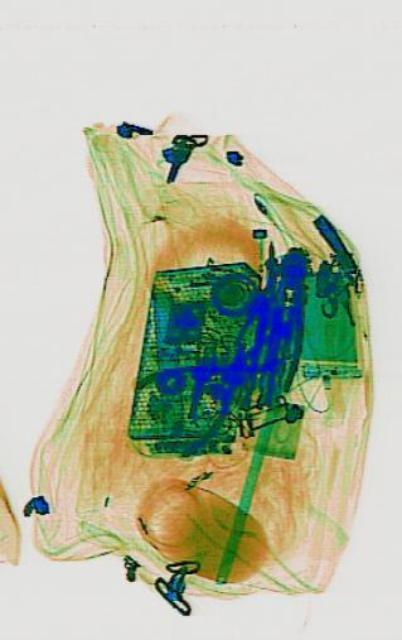Pliers: (131, 306, 265, 474)
